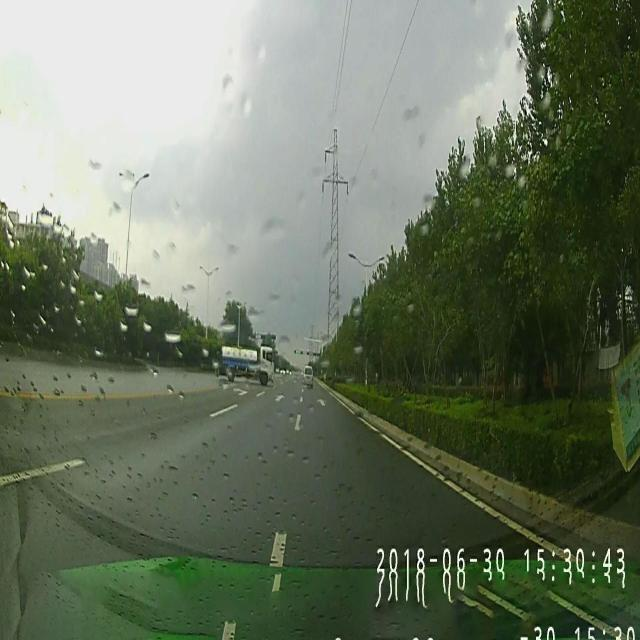car: (304, 366, 313, 389)
